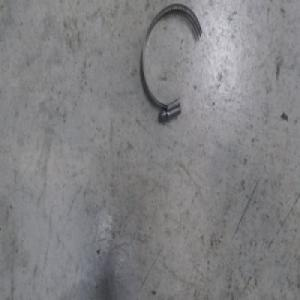AdjustableClamp: (140, 2, 202, 122)
